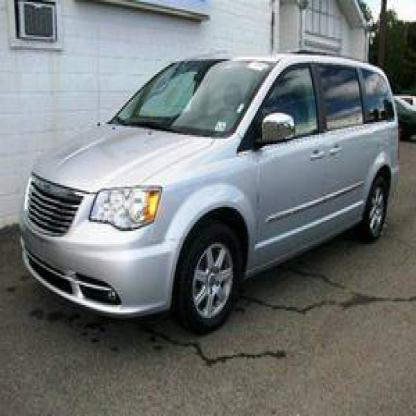Vehicle: (23, 57, 400, 329)
